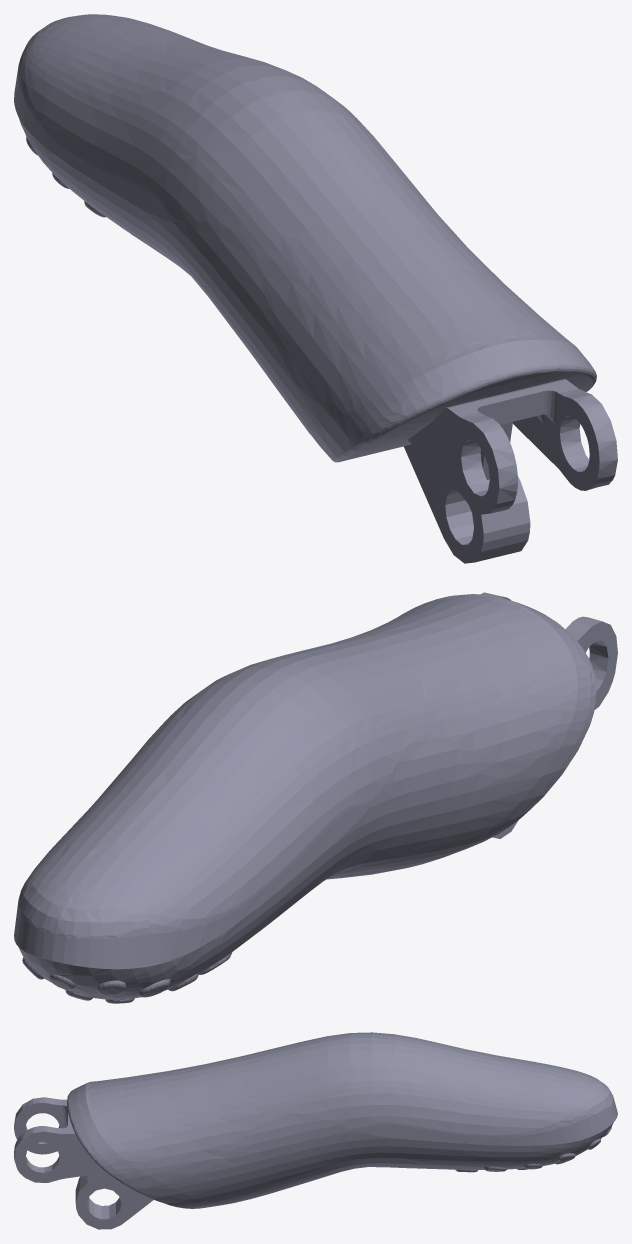
The model's file is hand1_link_3_2_visuals.obj.
3 views of the same model, one above another, from view 1: azimuth 30°, elevation 25°; view 2: azimuth 150°, elevation 25°; view 3: azimuth 270°, elevation 25° (orthographic). The views are drawn at different scales.
Bounding box in the file's own units: 0.0136 × 0.0178 × 0.0527.
